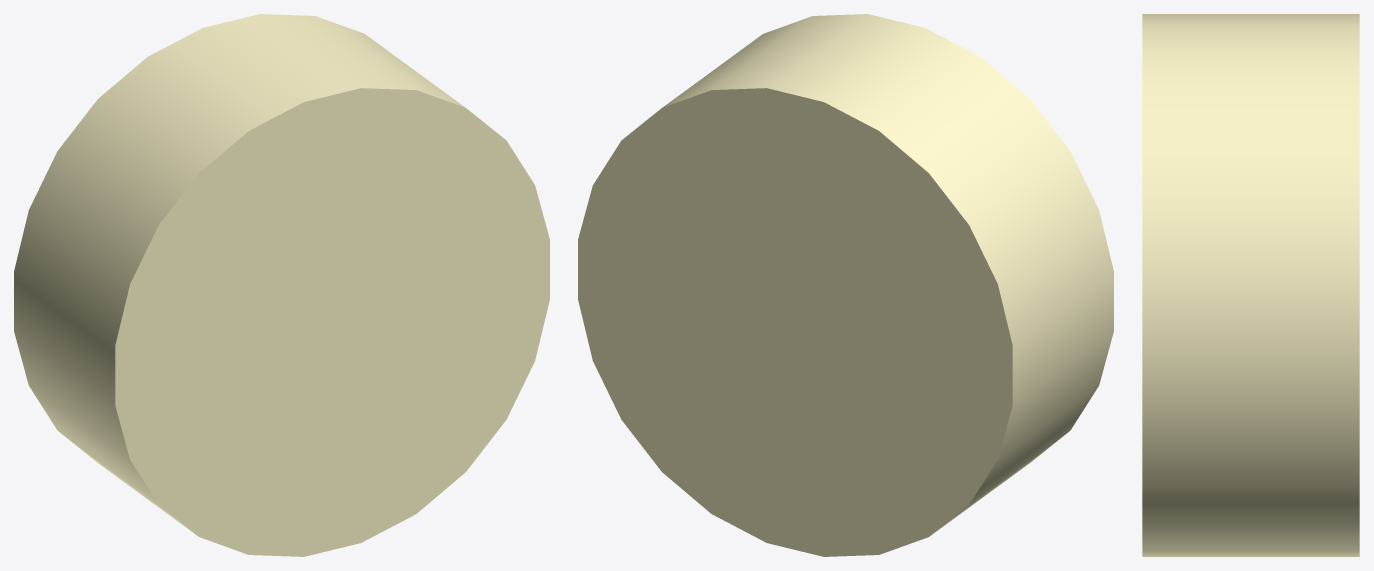
The model's file is original-9.obj.
3 renders of one model, left to right at view 1: azimuth 30°, elevation 25°; view 2: azimuth 150°, elevation 25°; view 3: azimuth 270°, elevation 25°, orthographic. The views are drawn at different scales.
Parts seen in each view (by area): view 1: Group6/mesh21/mesh21-geometry#mesh21-geometry; view 2: Group6/mesh21/mesh21-geometry#mesh21-geometry; view 3: Group6/mesh21/mesh21-geometry#mesh21-geometry.
Part boxes in pixels (box(x1,y1,x2,y2)): Group6/mesh21/mesh21-geometry#mesh21-geometry: box(14, 14, 549, 556); Group6/mesh21/mesh21-geometry#mesh21-geometry: box(578, 14, 1113, 556); Group6/mesh21/mesh21-geometry#mesh21-geometry: box(1142, 14, 1359, 556).
Bounding box in the file's own units: 0.0411 × 0.0411 × 0.0166.
